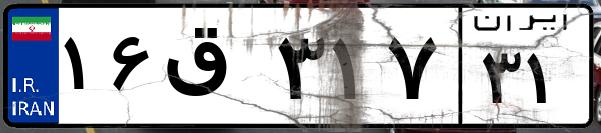1: (330, 28, 385, 110), (57, 26, 110, 100), (525, 38, 570, 115)
3: (270, 28, 330, 110), (475, 38, 525, 113)
6: (110, 28, 158, 98)
7: (385, 28, 445, 110)
ق: (158, 20, 270, 120)
